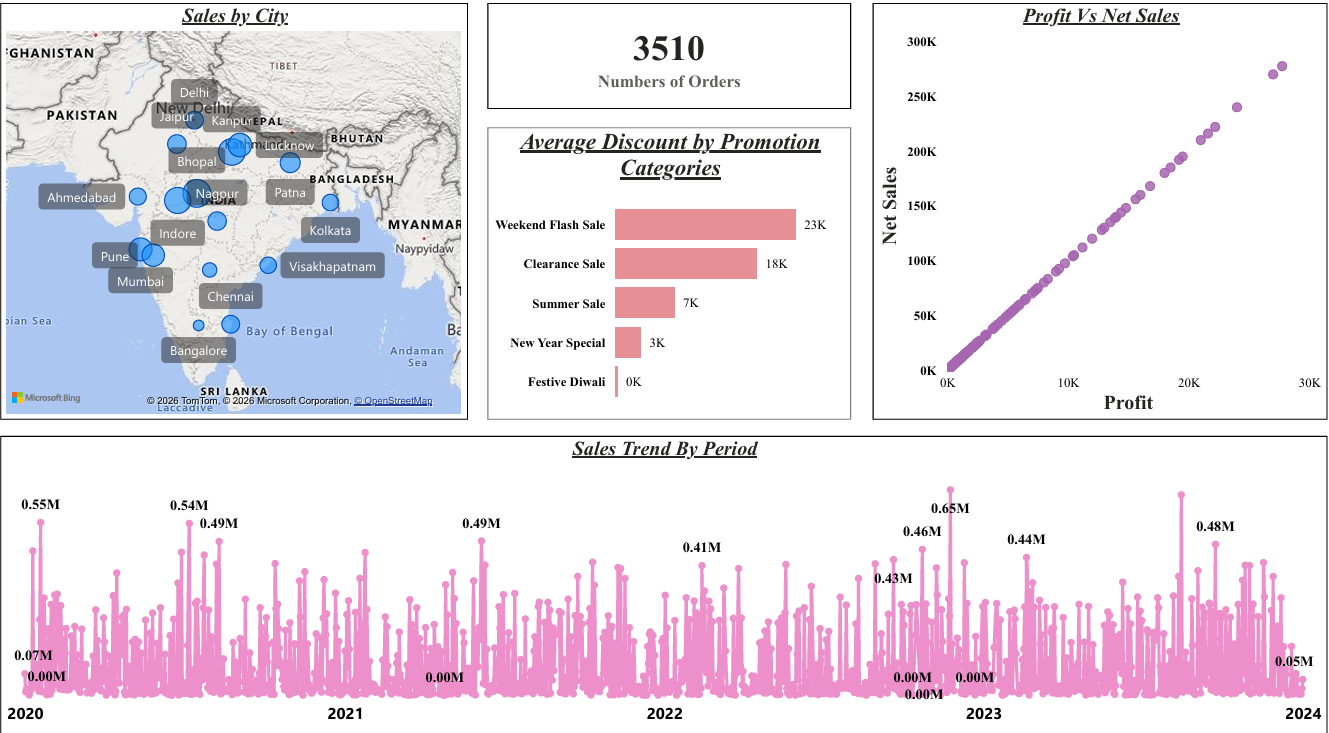

Layout of this report page (visuals, bound fields, positions):
{"tool":"powerbi","page":{"name":"Overview","canvas":[1280,720],"ordinal":1},"visuals":[{"type":"lineChart","title":"Sales Trend By Period","fields":{"Y":["Sum(Fact Table.Net Sales  )"],"Category":["Fact Table.Date (dd/mm/yyyy).Variation.Date Hierarchy.Year"]},"box":[19.9,420.7,1237.4,279.9],"z":0},{"type":"scatterChart","title":"Profit Vs Net Sales  ","fields":{"X":["Fact Table.Profit"],"Y":["Fact Table.Net Sales  "]},"box":[833.2,16.6,424.1,389.3],"z":1000},{"type":"barChart","title":"Average Discount by Promotion Categories","fields":{"Y":["Avg(Fact Table.Discount)"],"Category":["Dim Promotion.Promotion Name"]},"box":[473.8,132.5,339.6,273.3],"z":2000},{"type":"map","title":"Sales by City","fields":{"Category":["Dim Customers.City"],"Size":["Sum(Fact Table.Net Sales  )"]},"box":[19.9,16.6,435.7,389.3],"z":3000},{"type":"card","fields":{"Values":["Count(Fact Table.Order ID)"]},"box":[473.8,16.6,339.6,99.4],"z":4000}]}

Visuals, with their boxes in screenshot pixels (x1, y1, x2, y2), scaled from the page's 1280x720 canvas onto the 1329x733 screenshot:
"Sales Trend By Period" lineChart: box(21, 428, 1305, 713)
"Profit Vs Net Sales  " scatterChart: box(865, 17, 1305, 413)
"Average Discount by Promotion Categories" barChart: box(492, 135, 845, 413)
"Sales by City" map: box(21, 17, 473, 413)
card - Count(Fact Table.Order ID): box(492, 17, 845, 118)
